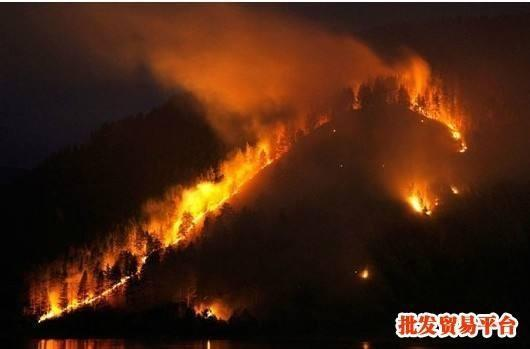fire: (4, 174, 183, 322), (401, 64, 486, 221), (186, 130, 283, 222), (152, 285, 259, 331), (349, 258, 386, 285), (332, 156, 352, 179), (372, 154, 389, 169), (324, 124, 339, 134)
